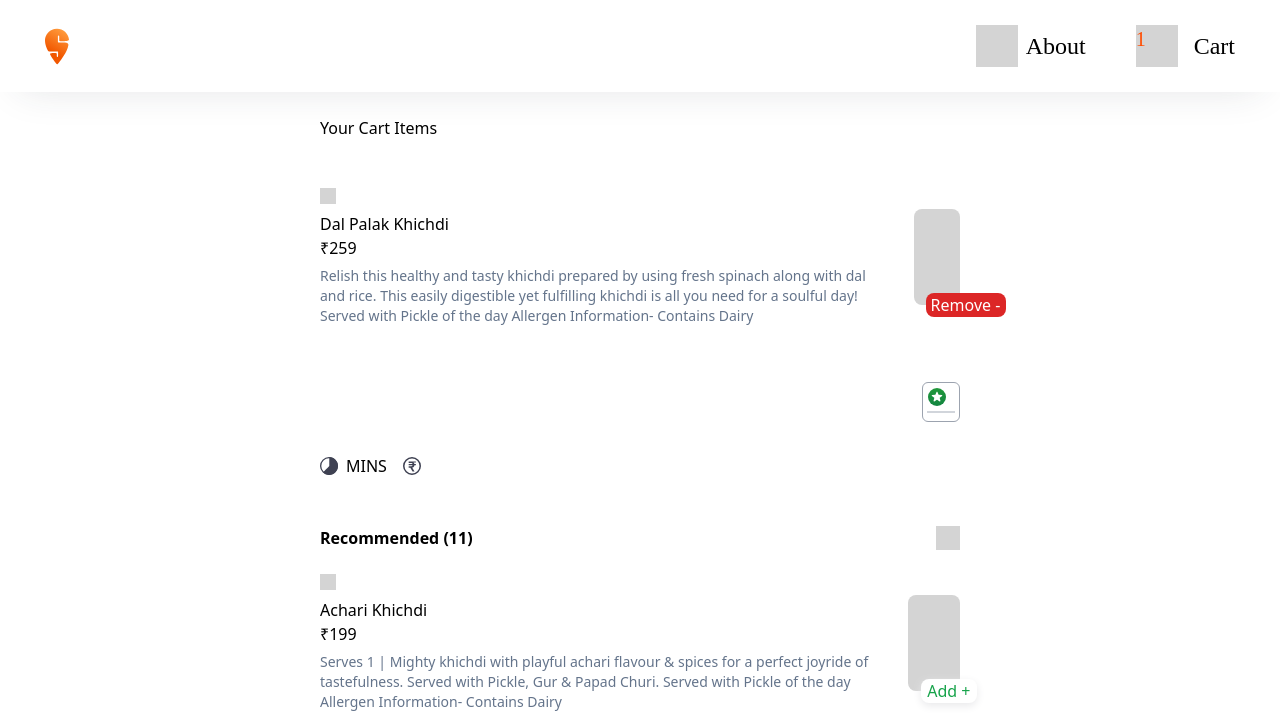
Scenario: should empty items from cart on click of last remove button and decrement cart items number to 0 and show empty cart
This screenshot has width=1280, height=720.
Click the button "Remove -" at {"x": 966, "y": 305}, box [926, 293, 1006, 317]
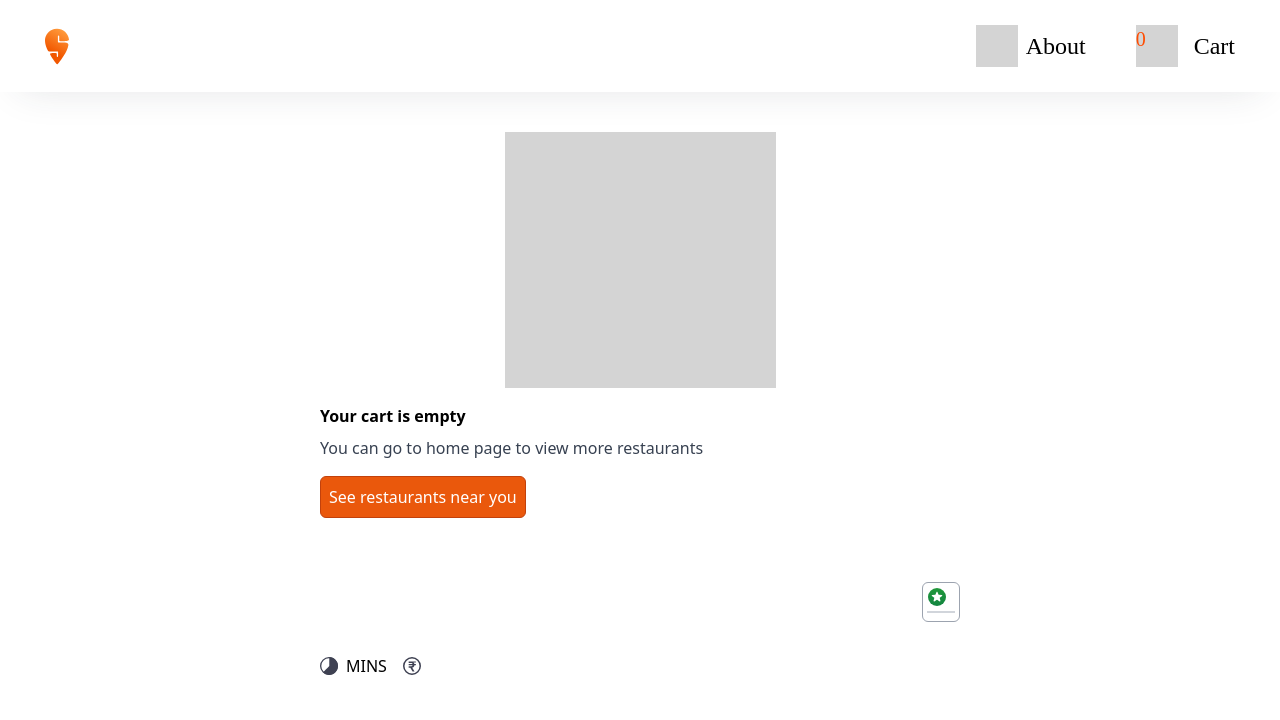
Expected: the text "0" is shown, [1136, 28, 1146, 50]
Expected: the text "Your cart is empty" is shown, [320, 405, 466, 427]
